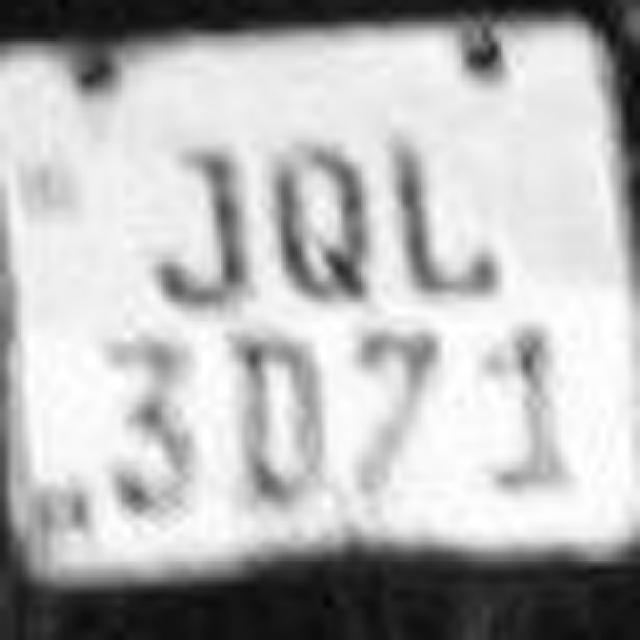0: (208, 312, 344, 520)
1: (452, 304, 576, 511)
2: (316, 312, 449, 516)
3: (71, 320, 224, 528)
7: (332, 316, 448, 509)
J: (128, 140, 268, 320), (384, 125, 511, 320)
Q: (264, 120, 384, 325)
